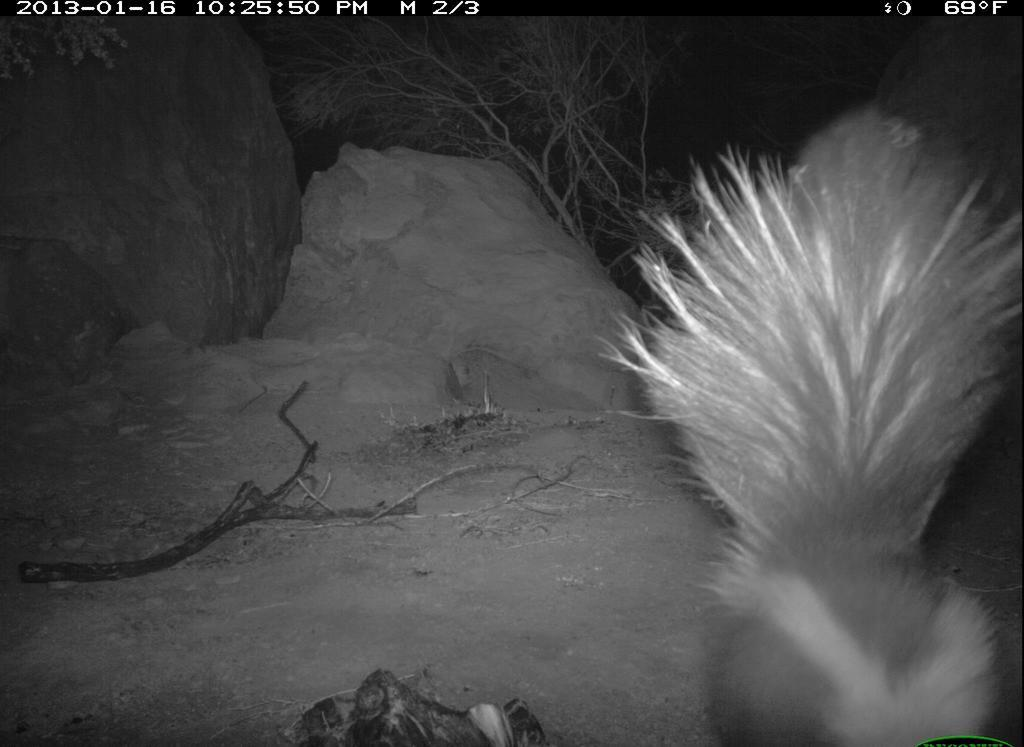skunk: (614, 107, 1024, 741)
